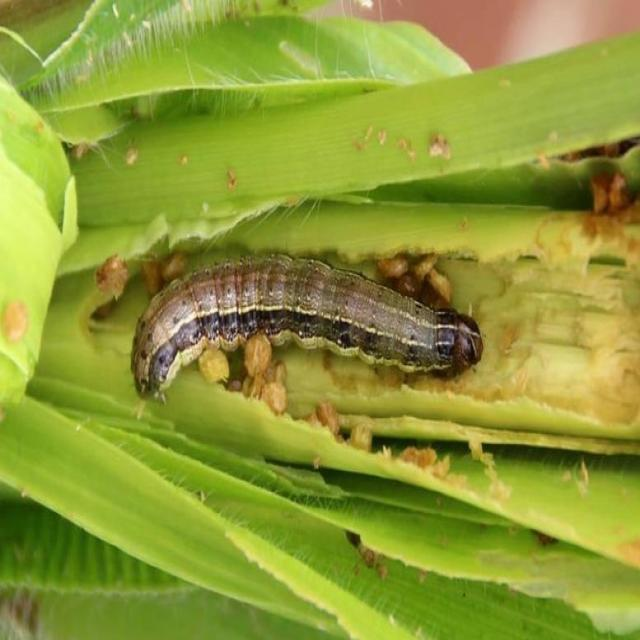army worm: (122, 256, 494, 400)
